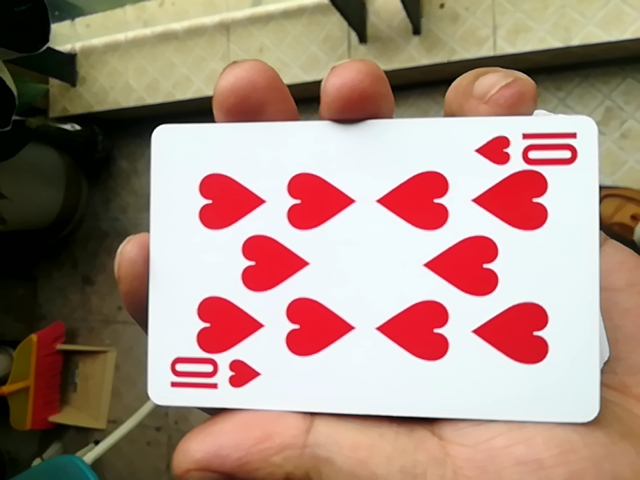hx 10: (138, 118, 594, 432)
